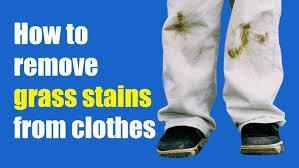earth: (173, 12, 189, 32), (239, 23, 248, 47), (256, 32, 268, 43), (228, 48, 242, 57)
